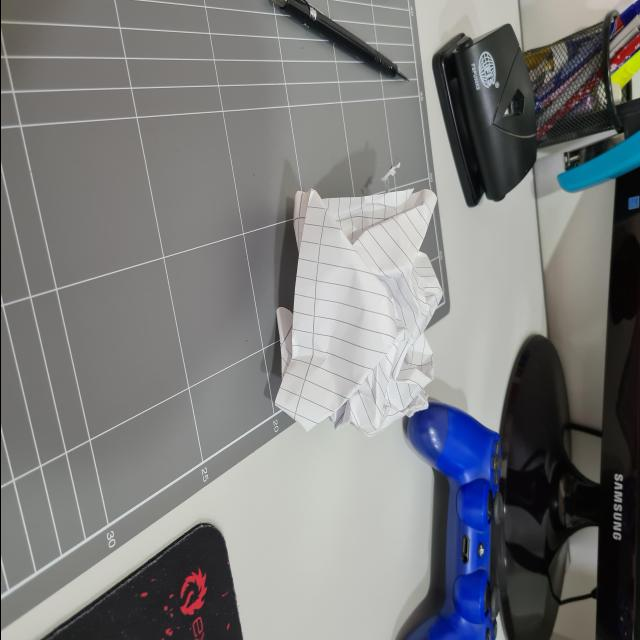kertas: (268, 168, 448, 434)
